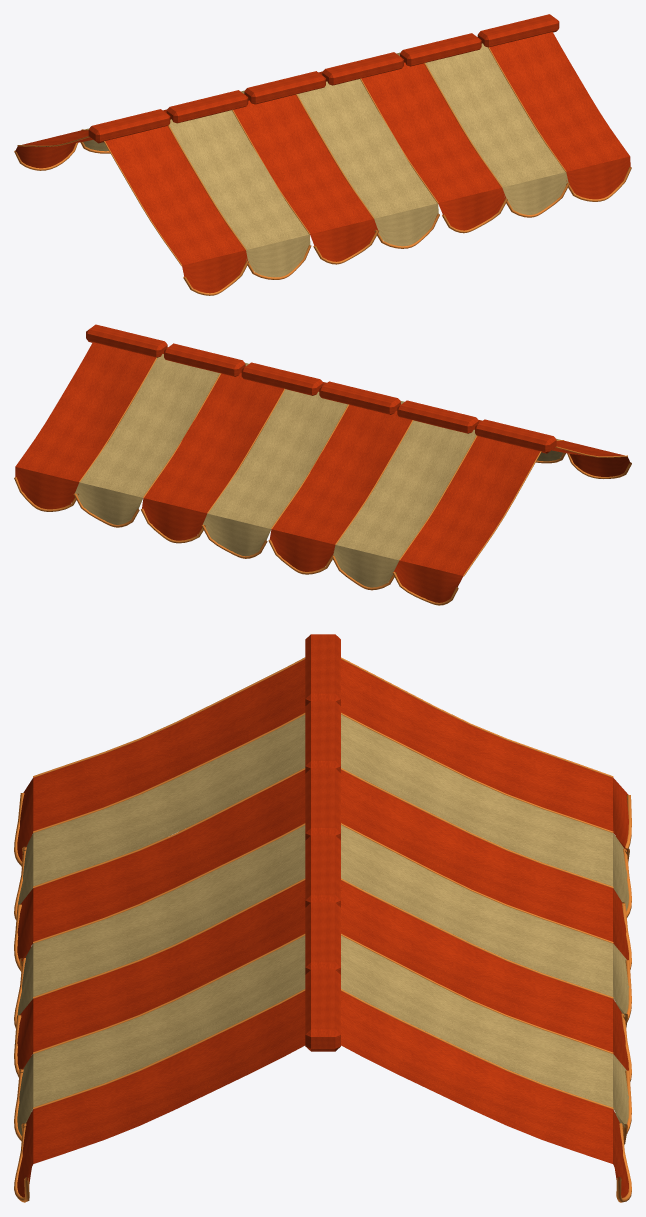
File: wsc-prop-005-market-awning-breeze.glb
3 renders of one model, top to bottom at view 1: azimuth 30°, elevation 25°; view 2: azimuth 150°, elevation 25°; view 3: azimuth 270°, elevation 25°, orthographic. The views are drawn at different scales.
Parts seen in each view (by area): view 1: MarketAwning_Canvas; view 2: MarketAwning_Canvas; view 3: MarketAwning_Canvas.
Part boxes in pixels (<box>): MarketAwning_Canvas: <box>14,14,631,295</box>; MarketAwning_Canvas: <box>14,324,631,605</box>; MarketAwning_Canvas: <box>14,634,631,1202</box>.
Size of the model in its own units: 2.93 by 0.6766 by 1.91.
3 materials, 2 textured.
